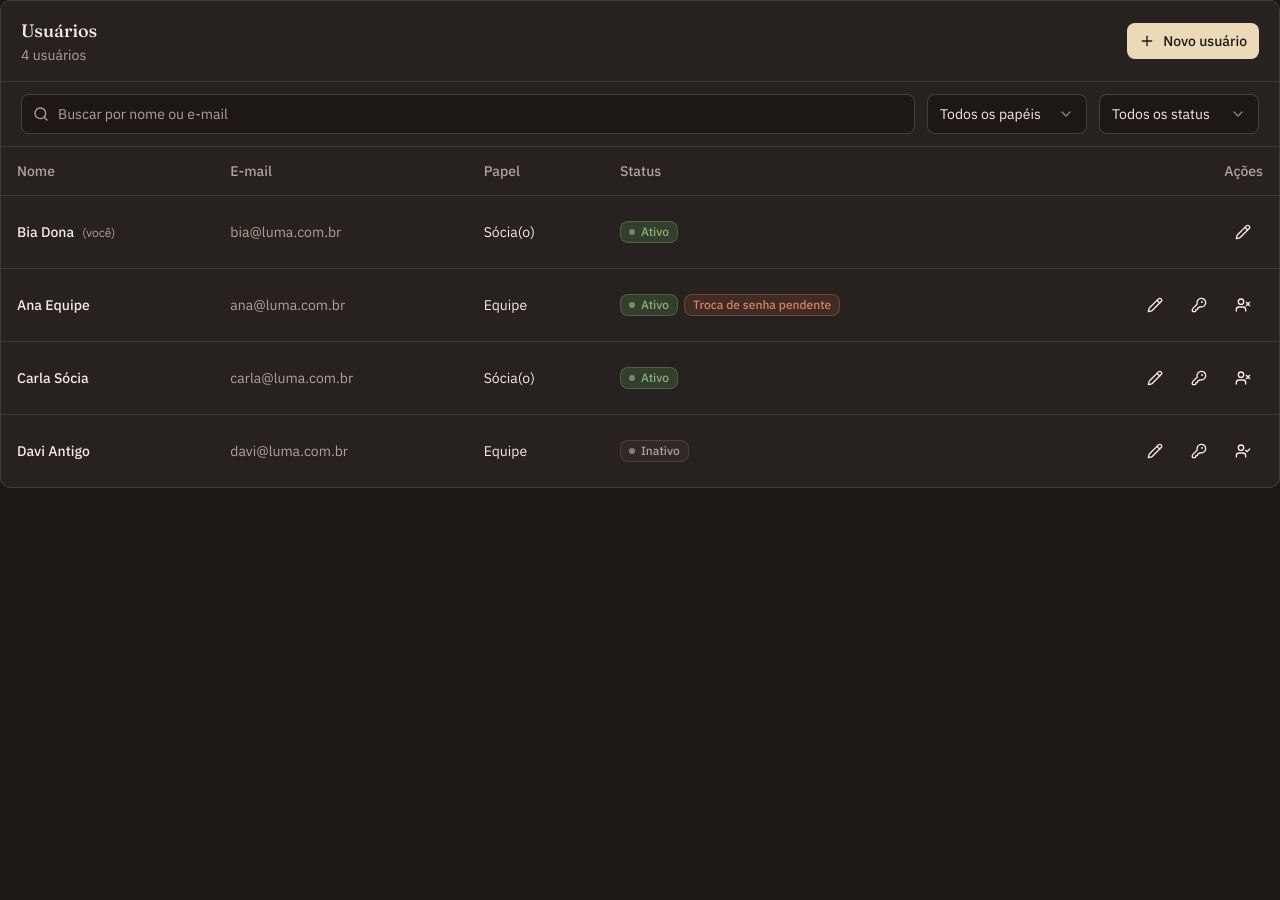
Test case: users tab › resets another user's password after validating the temporary password
Check: the text "Ana Equipe" is shown, box left=1, top=268, right=214, bottom=341
Click the button named "Redefinir senha de Ana Equipe" at point(1199, 304), box left=1179, top=284, right=1219, bottom=324
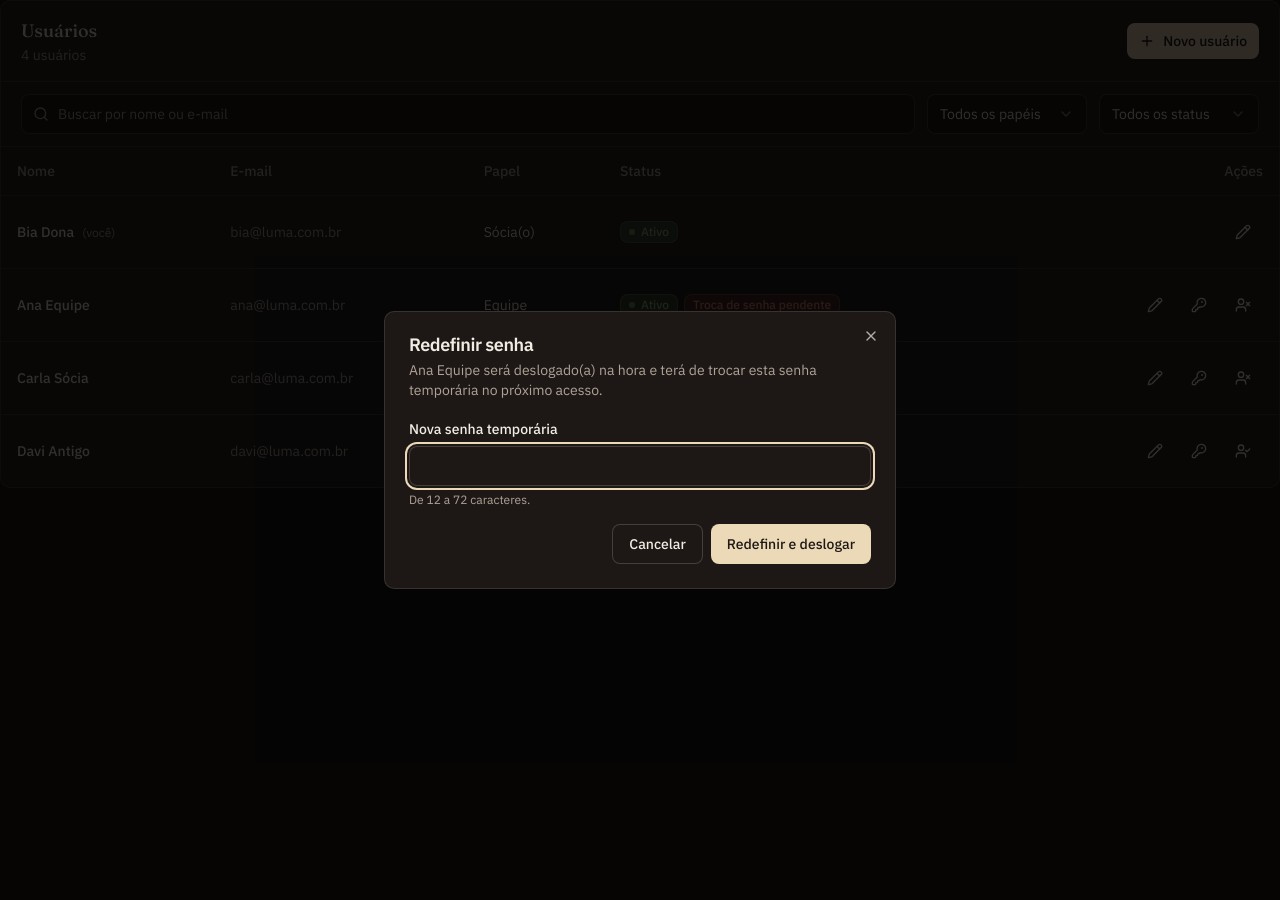
Check: the dialog shows "será deslogado(a) na hora", box left=409, top=361, right=817, bottom=399
Type "curta" into the password field labelled "Nova senha temporária" at point(640, 466), box left=409, top=446, right=871, bottom=486
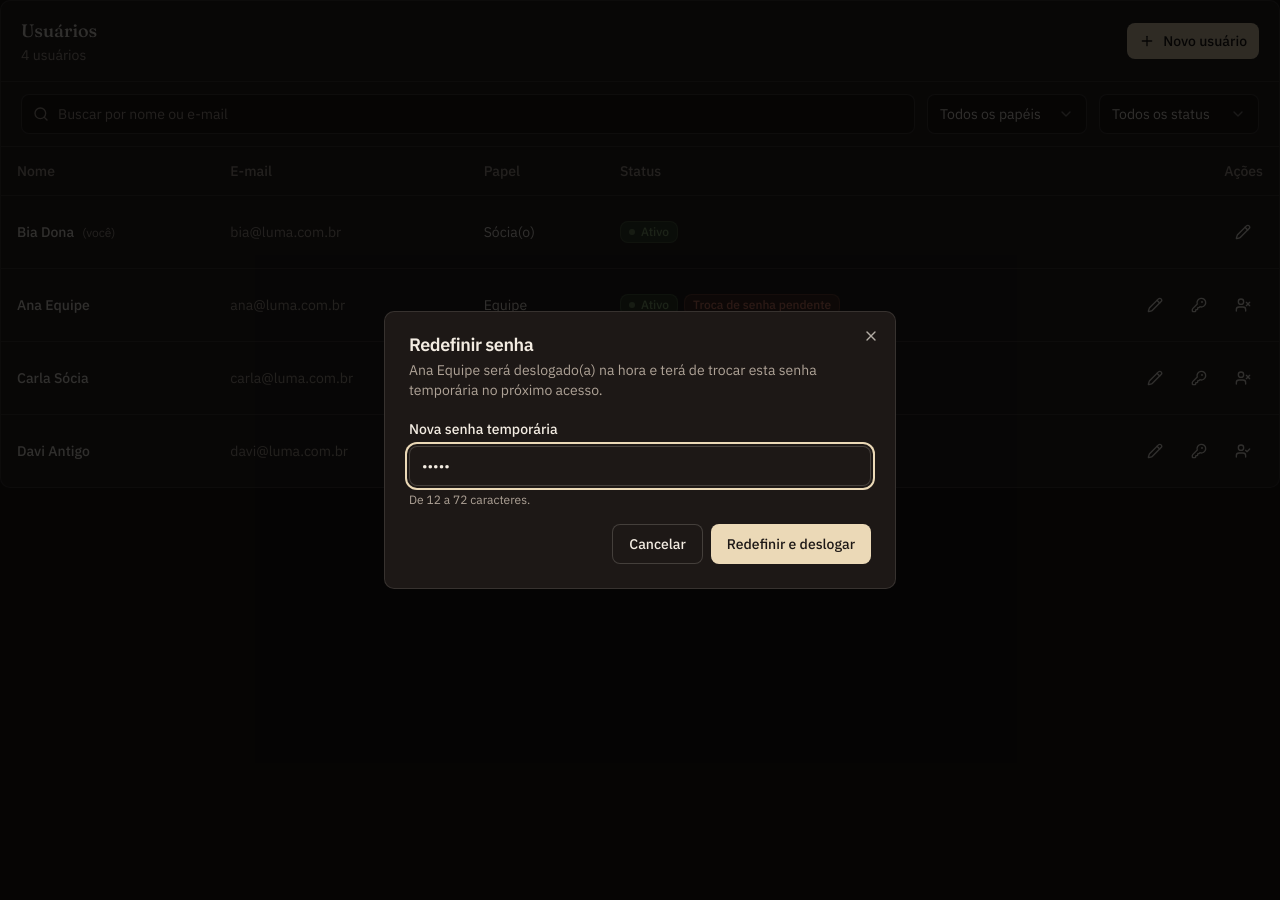
Click the button "Redefinir e deslogar" at point(791, 544), box left=711, top=524, right=871, bottom=564
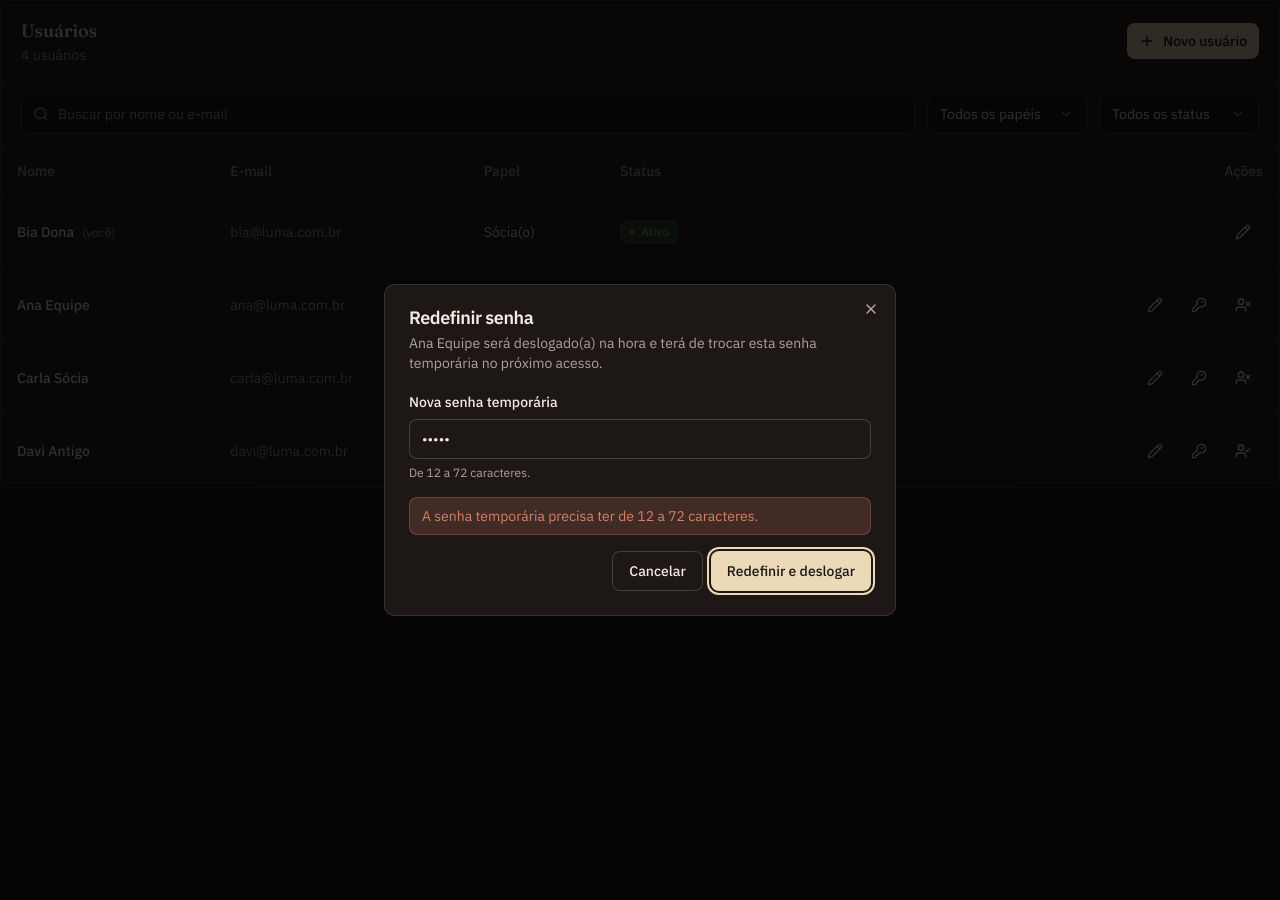
Check: the message shows "de 12 a 72 caracteres", box left=422, top=507, right=758, bottom=525
Type "outra-temporaria-1" into the password field labelled "Nova senha temporária" at point(640, 439), box left=409, top=419, right=871, bottom=459
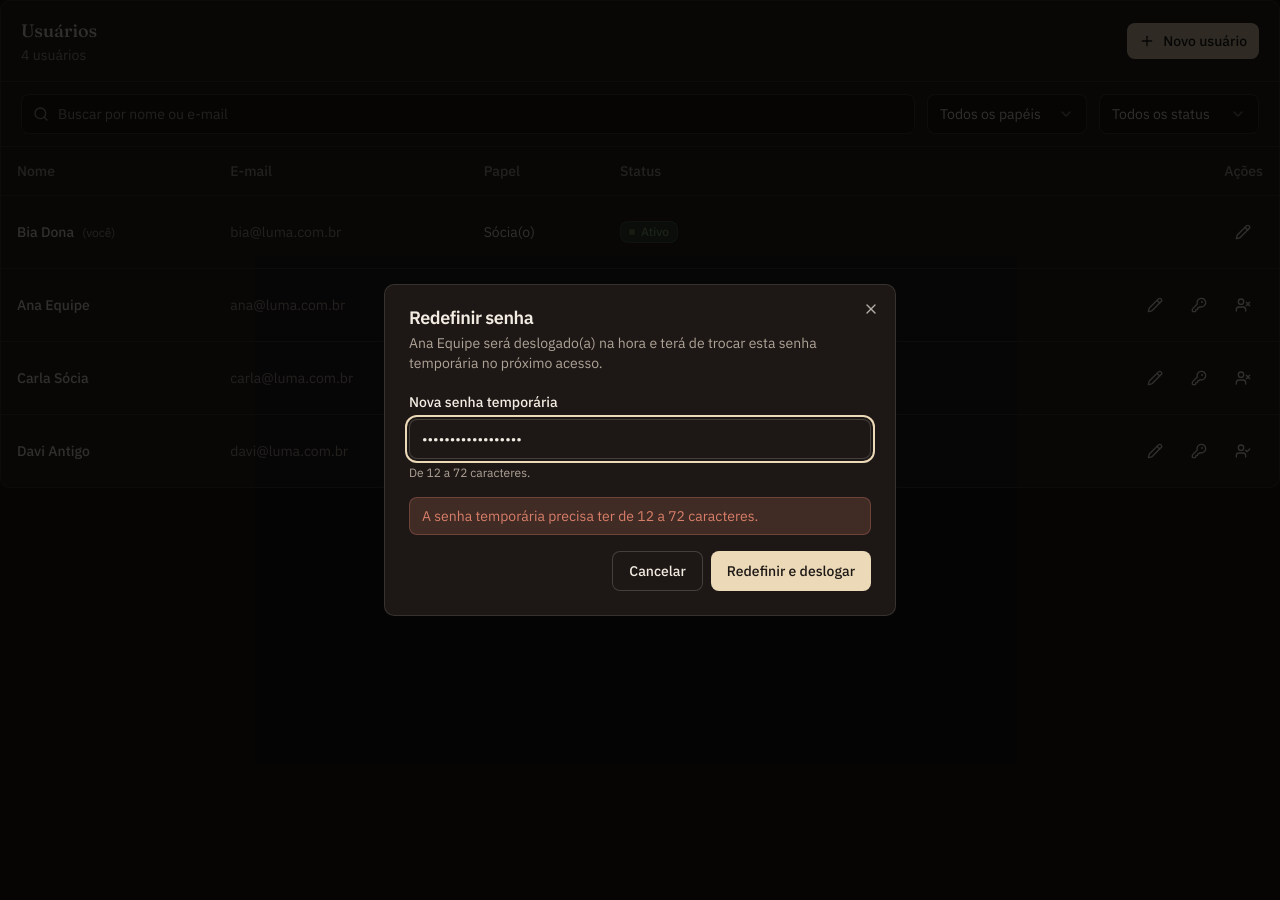
Click the button "Redefinir e deslogar" at point(791, 571), box left=711, top=551, right=871, bottom=591
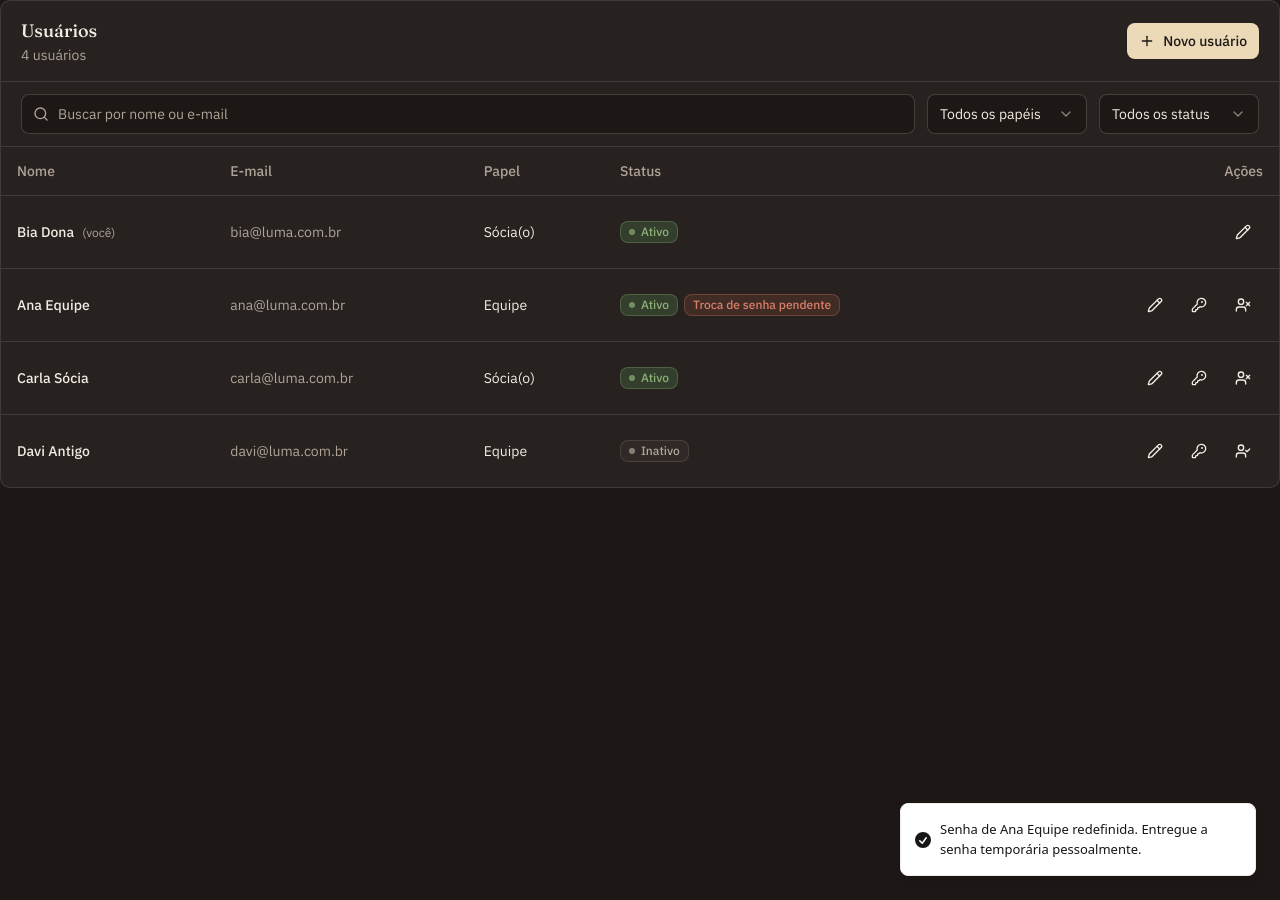
Check: the text "Senha de Ana Equipe redefinida" is shown, box left=940, top=820, right=1208, bottom=858
